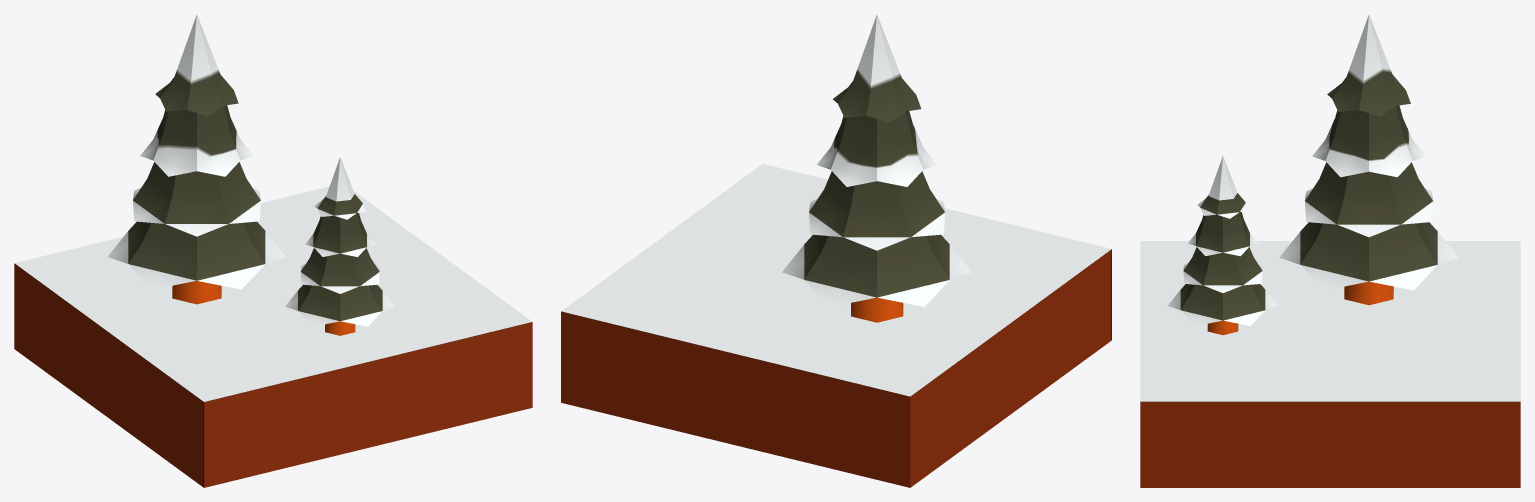
The model's file is S_pines.fbx.
3 views of the same model, side by side, from view 1: azimuth 30°, elevation 25°; view 2: azimuth 150°, elevation 25°; view 3: azimuth 270°, elevation 25° (orthographic). The views are drawn at different scales.
Parts seen in each view (by area): view 1: base_pines; view 2: base_pines; view 3: base_pines.
Part boxes in pixels (x1=…): base_pines: x1=14, y1=14, x2=532, y2=487; base_pines: x1=561, y1=14, x2=1111, y2=487; base_pines: x1=1140, y1=14, x2=1520, y2=487.
Bounding box in the file's own units: 200 × 212 × 200.
Materials: 1 (1 with a texture image).
